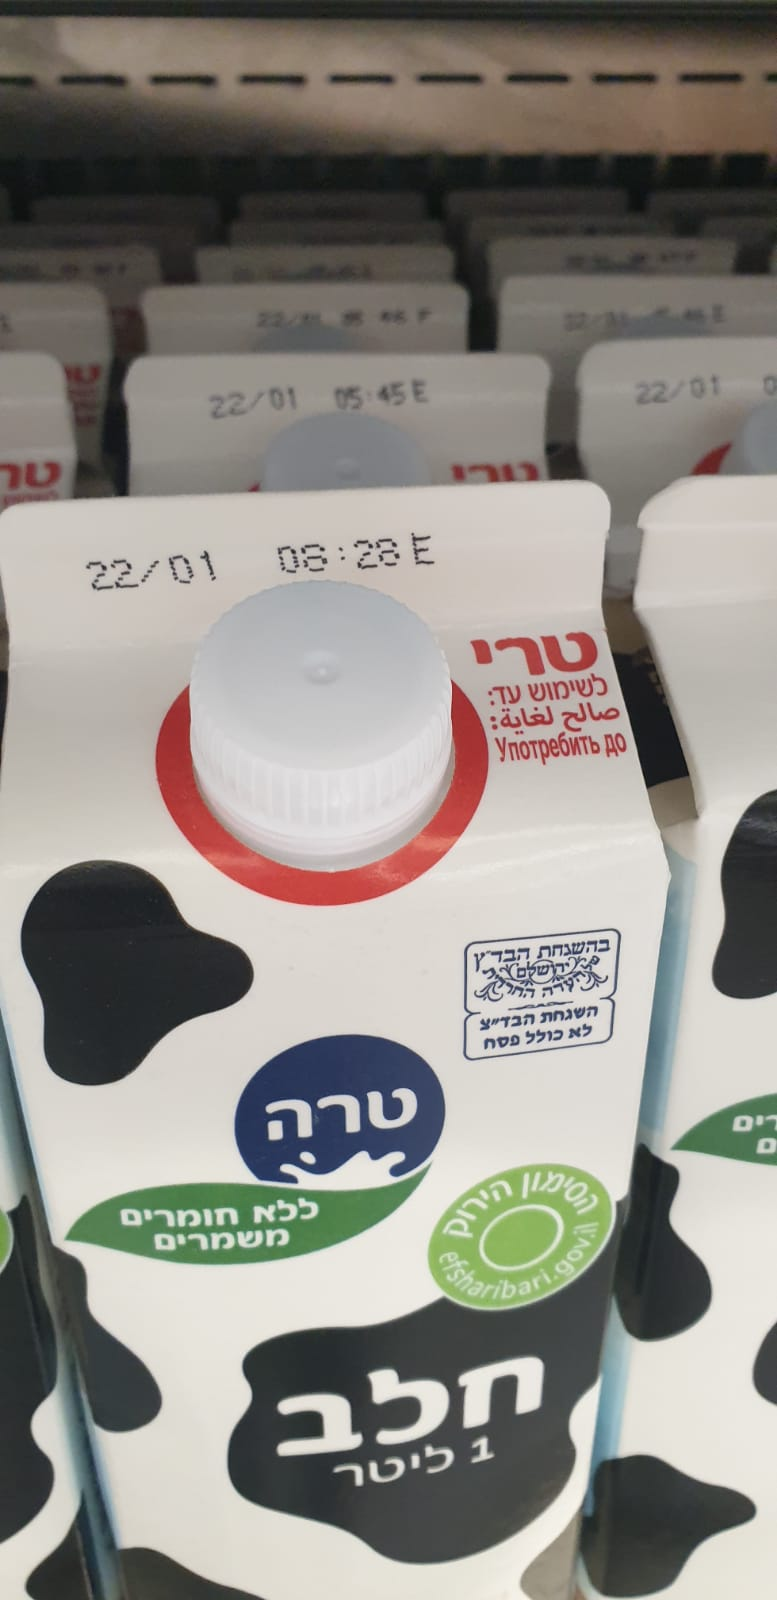green: (427, 1163, 615, 1316)
